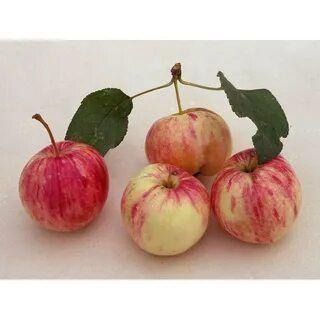Apple: (212, 148, 302, 243), (20, 140, 110, 232), (122, 162, 210, 256), (146, 108, 232, 168)
